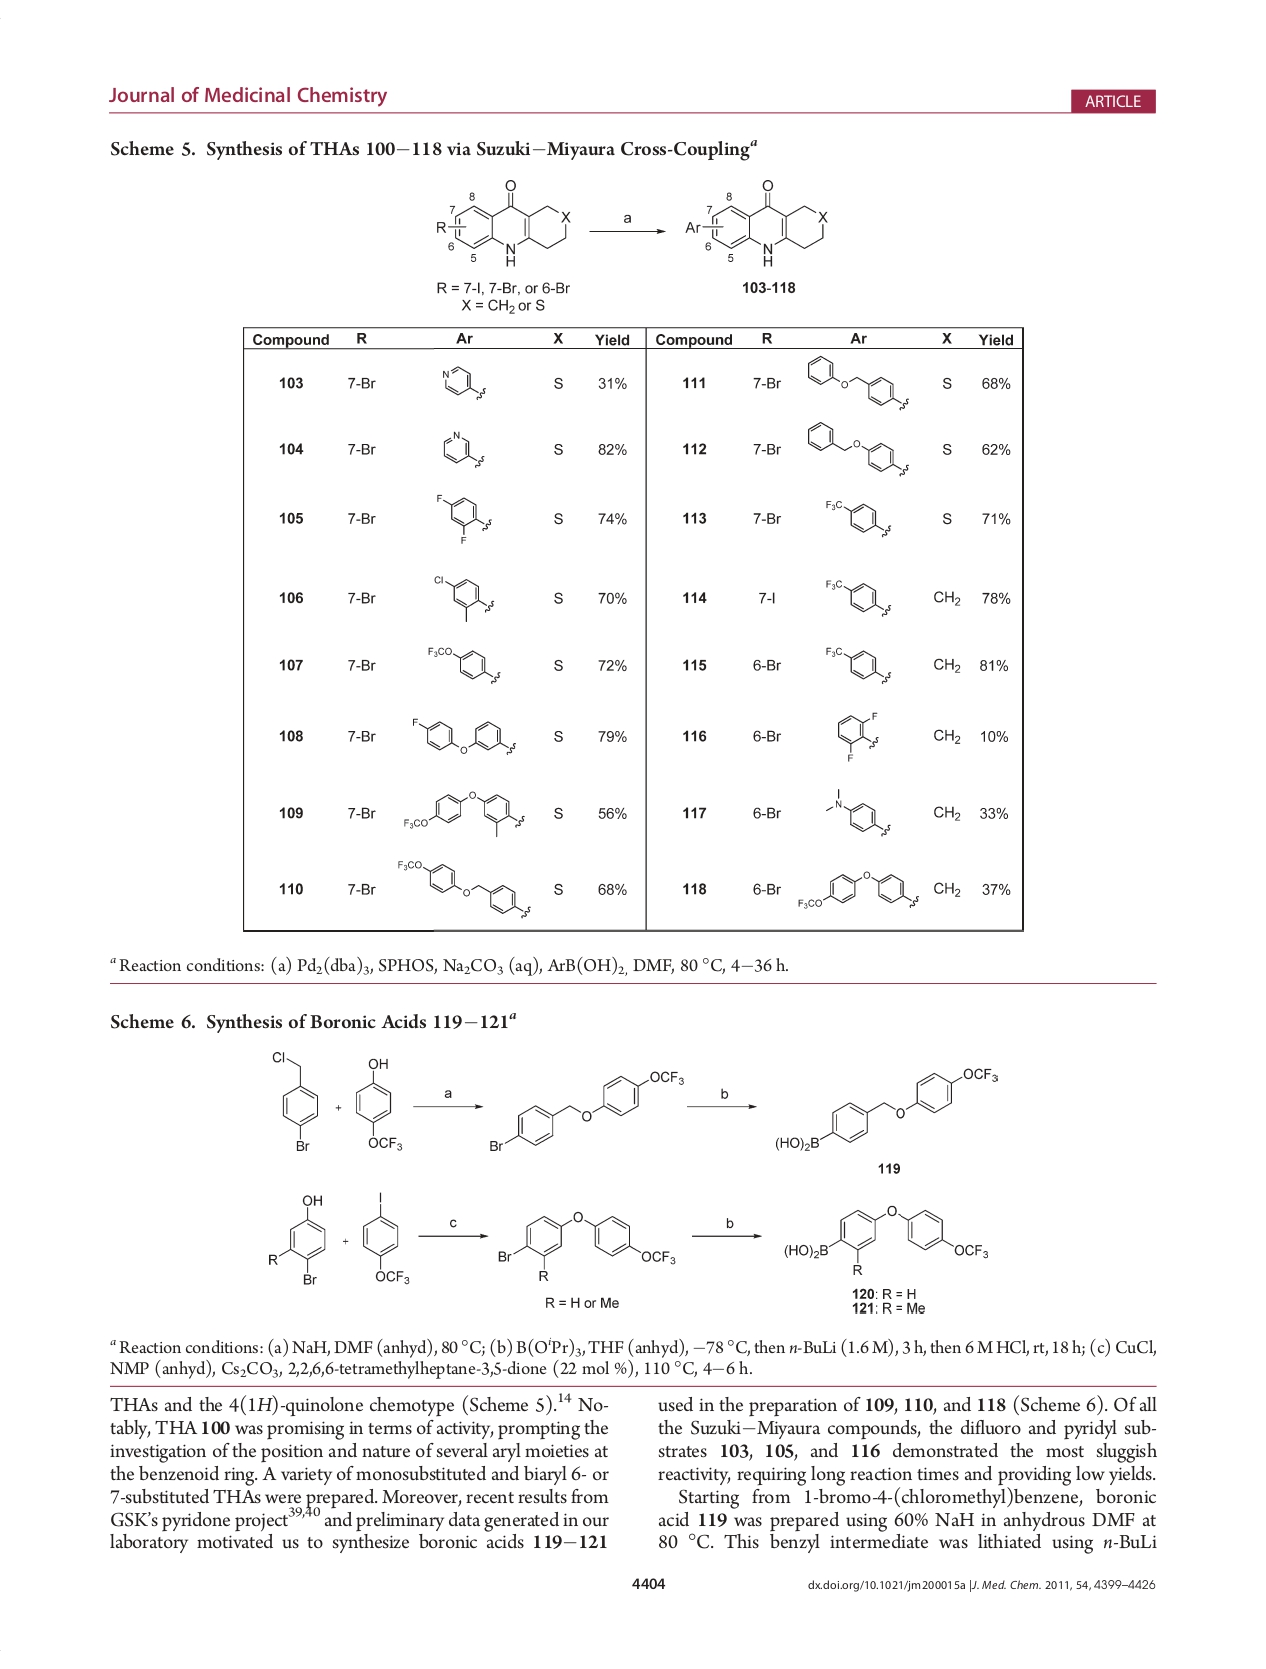exist_molecular: (770, 1063, 1001, 1152), (484, 1068, 688, 1154), (778, 1202, 989, 1278), (492, 1208, 684, 1283), (684, 178, 831, 269), (435, 177, 573, 266), (388, 851, 540, 922), (398, 783, 527, 839), (265, 1188, 332, 1293), (801, 418, 914, 479), (793, 864, 927, 915), (265, 1047, 324, 1157), (805, 350, 912, 410), (356, 1186, 414, 1289), (410, 707, 519, 759), (352, 1055, 407, 1158), (415, 636, 508, 688), (814, 484, 899, 540), (823, 782, 894, 840), (430, 485, 495, 545), (430, 568, 495, 626), (821, 638, 894, 688), (822, 571, 895, 614), (828, 710, 886, 763), (432, 360, 489, 407), (435, 426, 487, 473)
